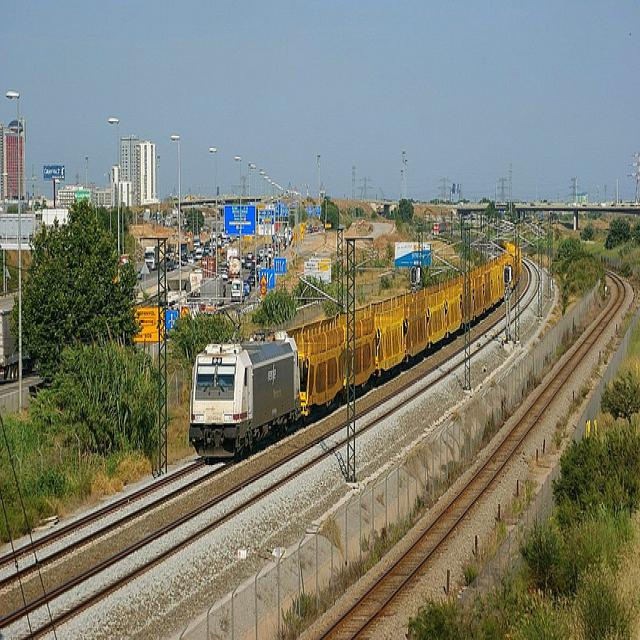Vehicle: (222, 276, 233, 286), (166, 259, 174, 272), (243, 282, 251, 294), (247, 275, 255, 287), (245, 259, 253, 269), (250, 256, 256, 265), (250, 269, 258, 275), (259, 250, 265, 258), (268, 248, 272, 258), (242, 255, 246, 265), (247, 252, 253, 258)
